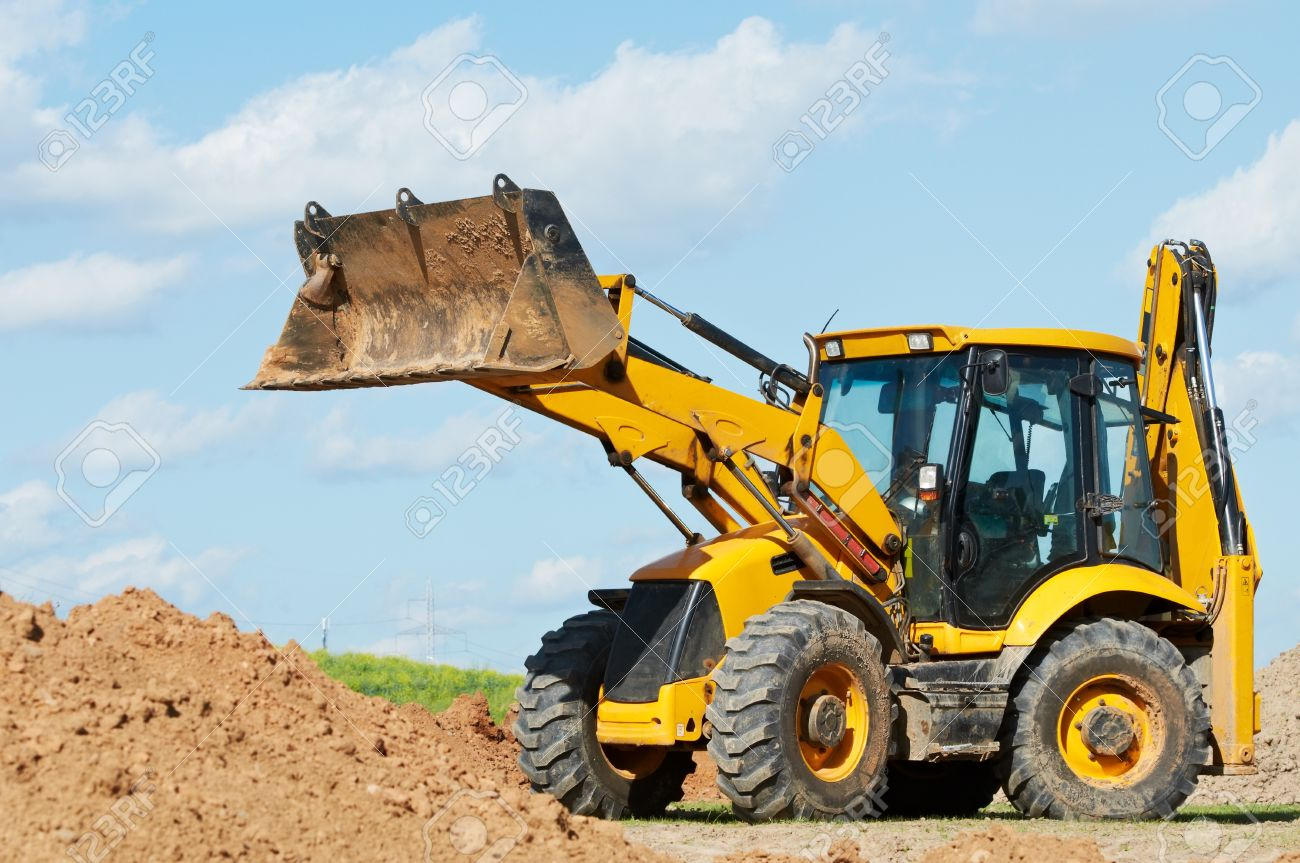truck: (255, 183, 1262, 822)
